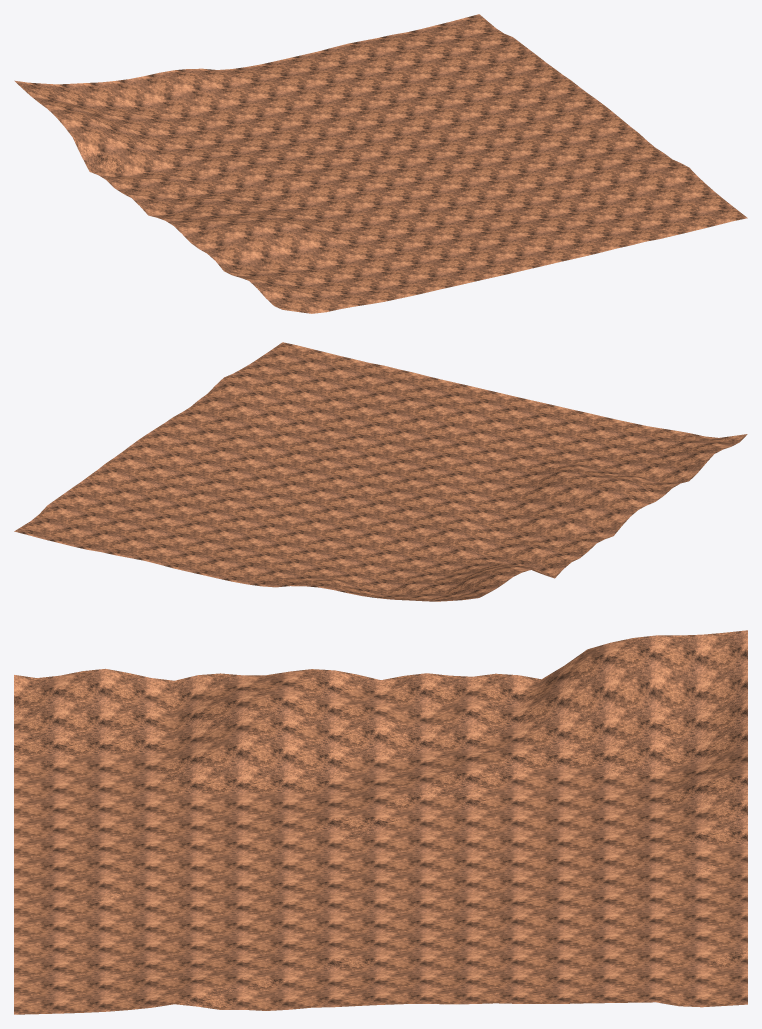
The model's file is terrain_00_01.dae.
3 views of the same model, one above another, from view 1: azimuth 30°, elevation 25°; view 2: azimuth 150°, elevation 25°; view 3: azimuth 270°, elevation 25° (orthographic). The views are drawn at different scales.
Visible parts, largest first — view 1: terrain_00_01-node; view 2: terrain_00_01-node; view 3: terrain_00_01-node.
Boxes of the visible parts, left/top/right/bottom form: terrain_00_01-node: left=14, top=14, right=747, bottom=313; terrain_00_01-node: left=14, top=342, right=747, bottom=601; terrain_00_01-node: left=14, top=630, right=747, bottom=1014.
Bounding box in the file's own units: 128 × 128 × 14.3.
1 material, 1 textured.
